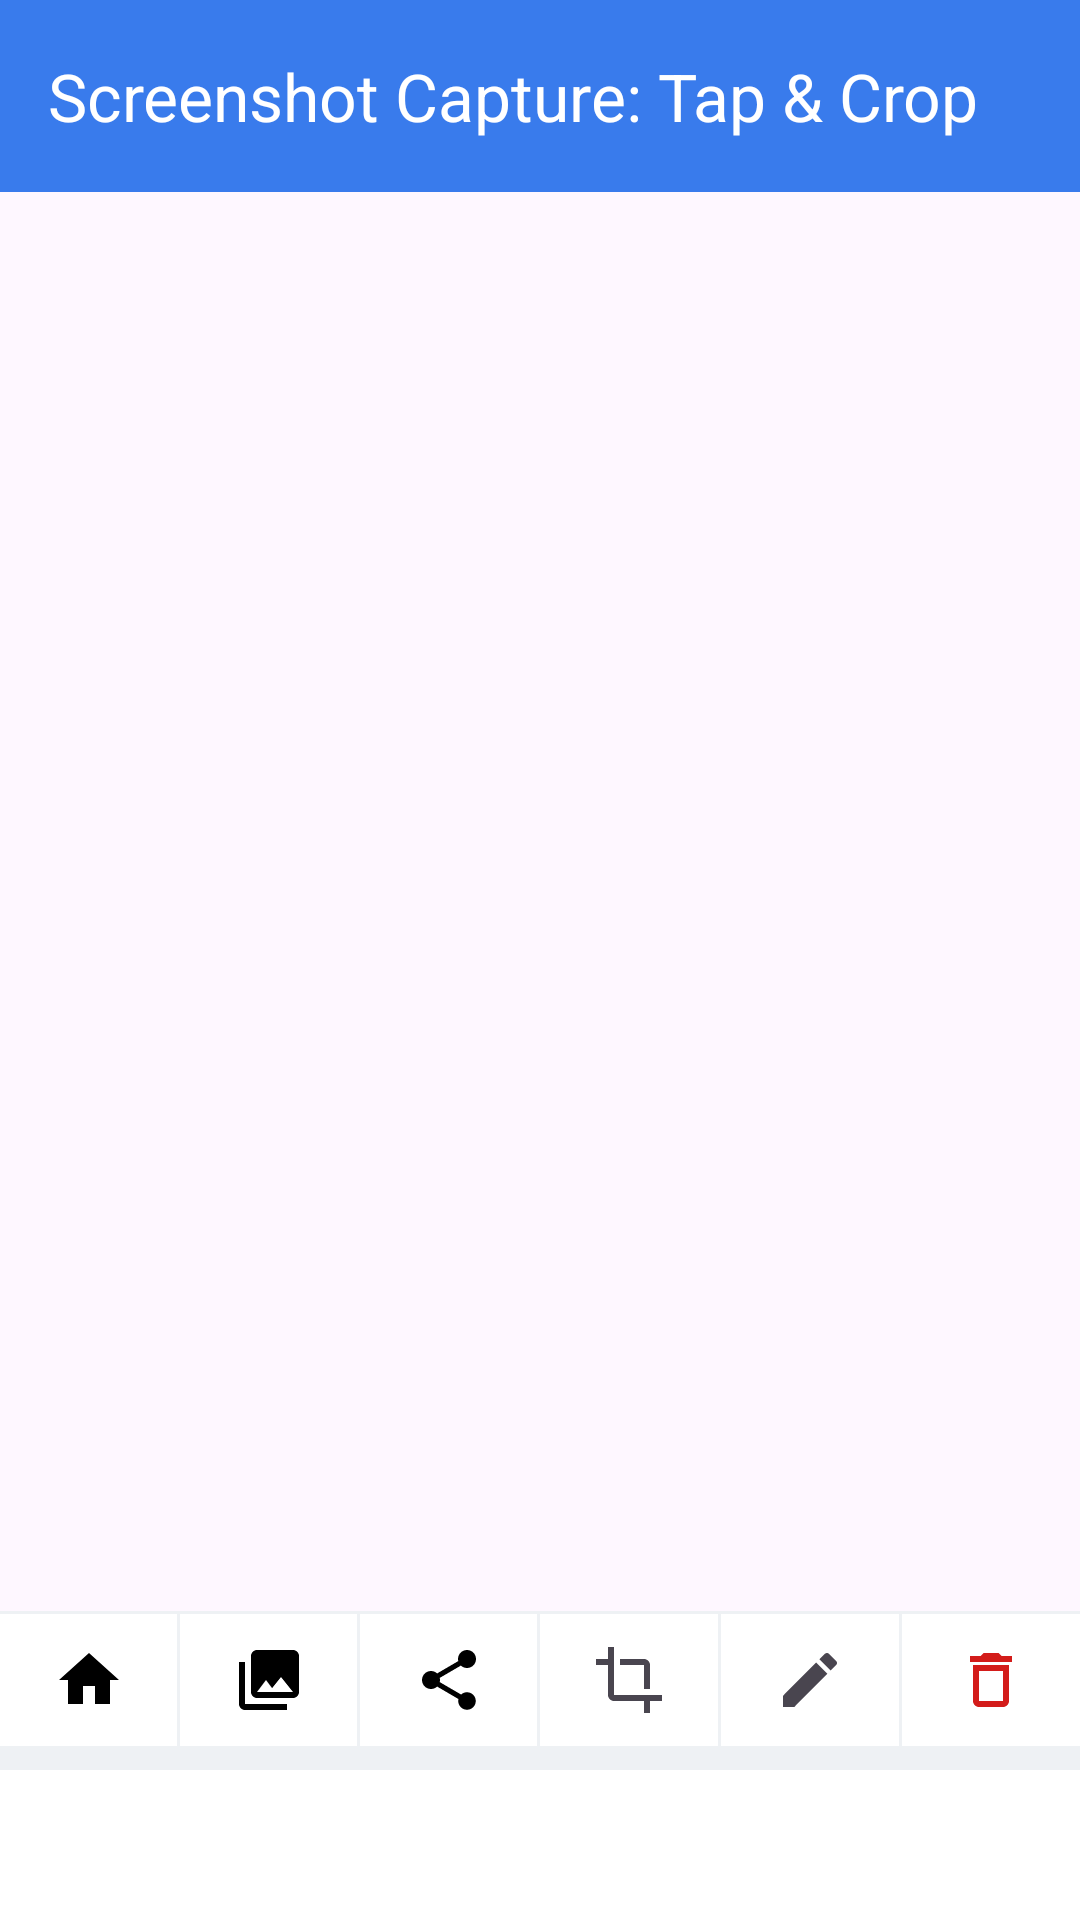

Screen size 1080x1920. Icon name, then its center in pixels as (x,y):
Annotate: (810,1680)
Crop: (629,1680)
delete: (991,1680)
home: (89,1678)
photo library: (269,1680)
share: (449,1680)
